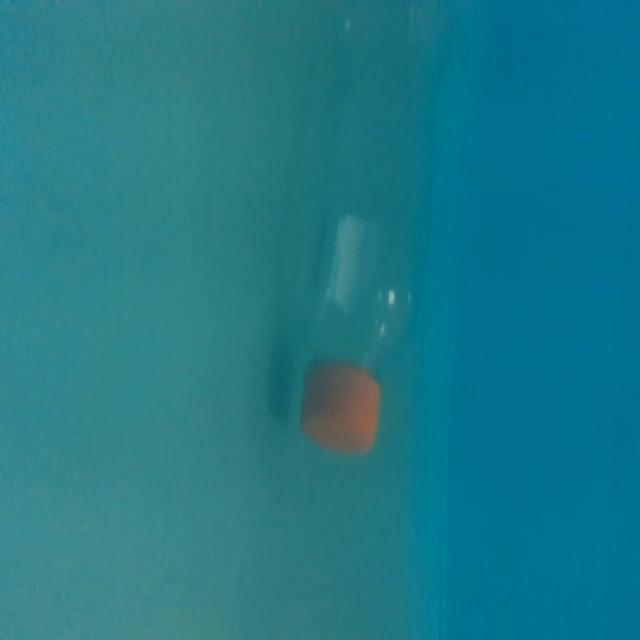plastic bottle: (285, 1, 454, 455)
